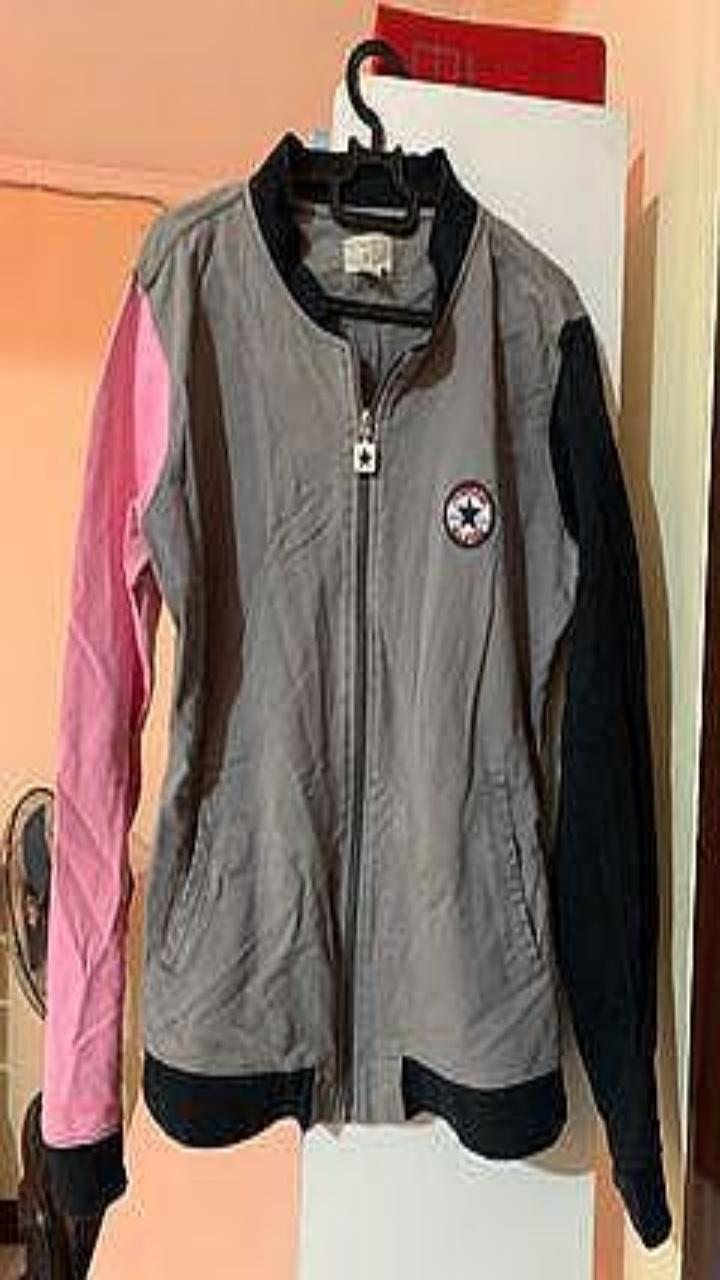Sports_Jacket: (42, 131, 670, 1245)
